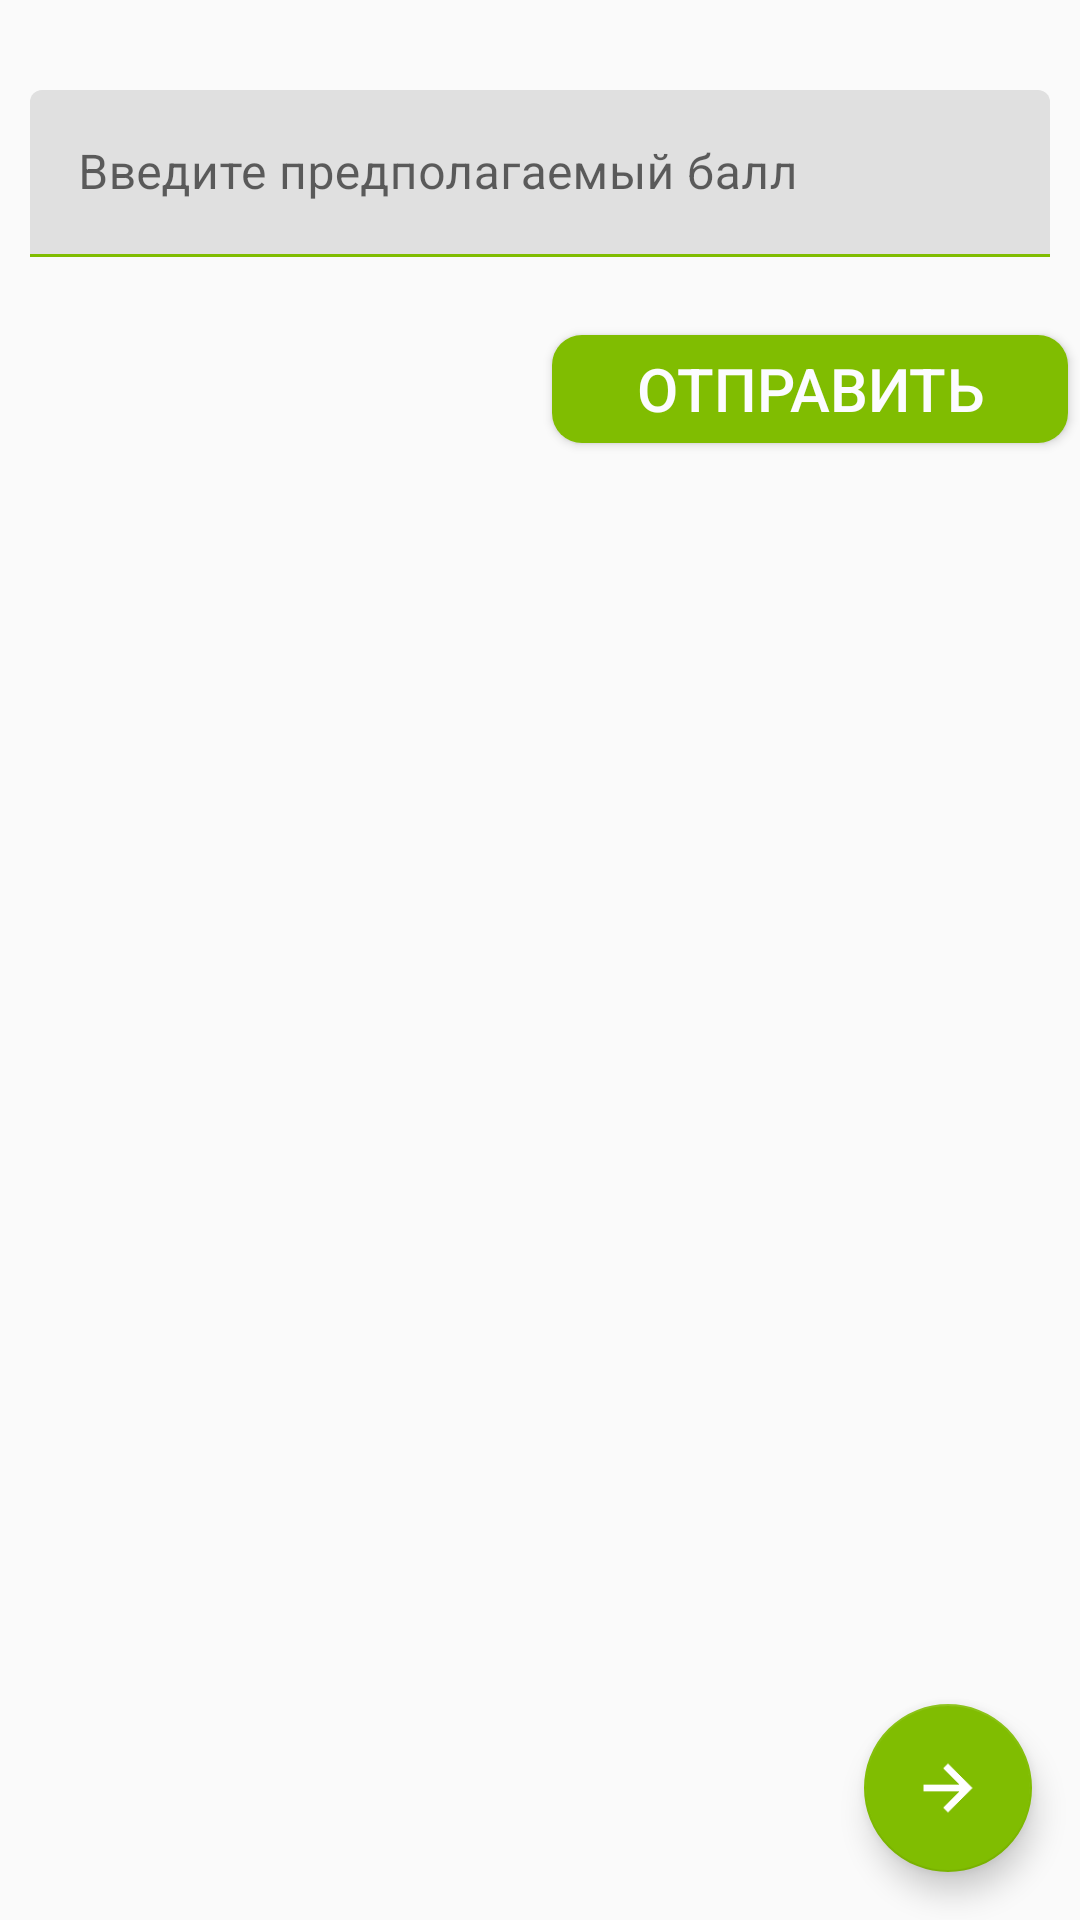

Where to tap for icons on this 1080 × 1920 app screen, as (x=x, y=y):
arrow right: (x=948, y=1788)
